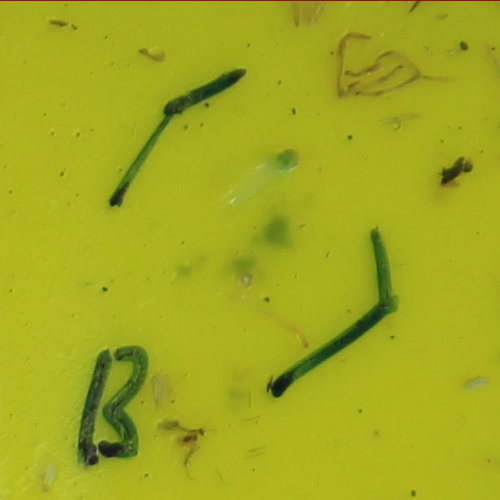psylla: (264, 148, 302, 184)
